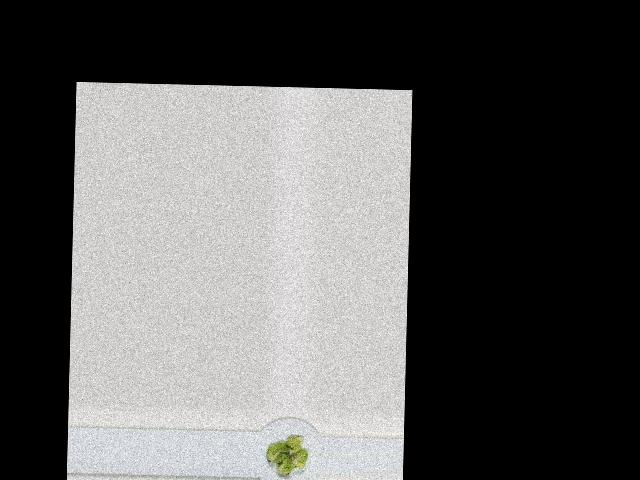lettuce: (262, 433, 307, 477)
